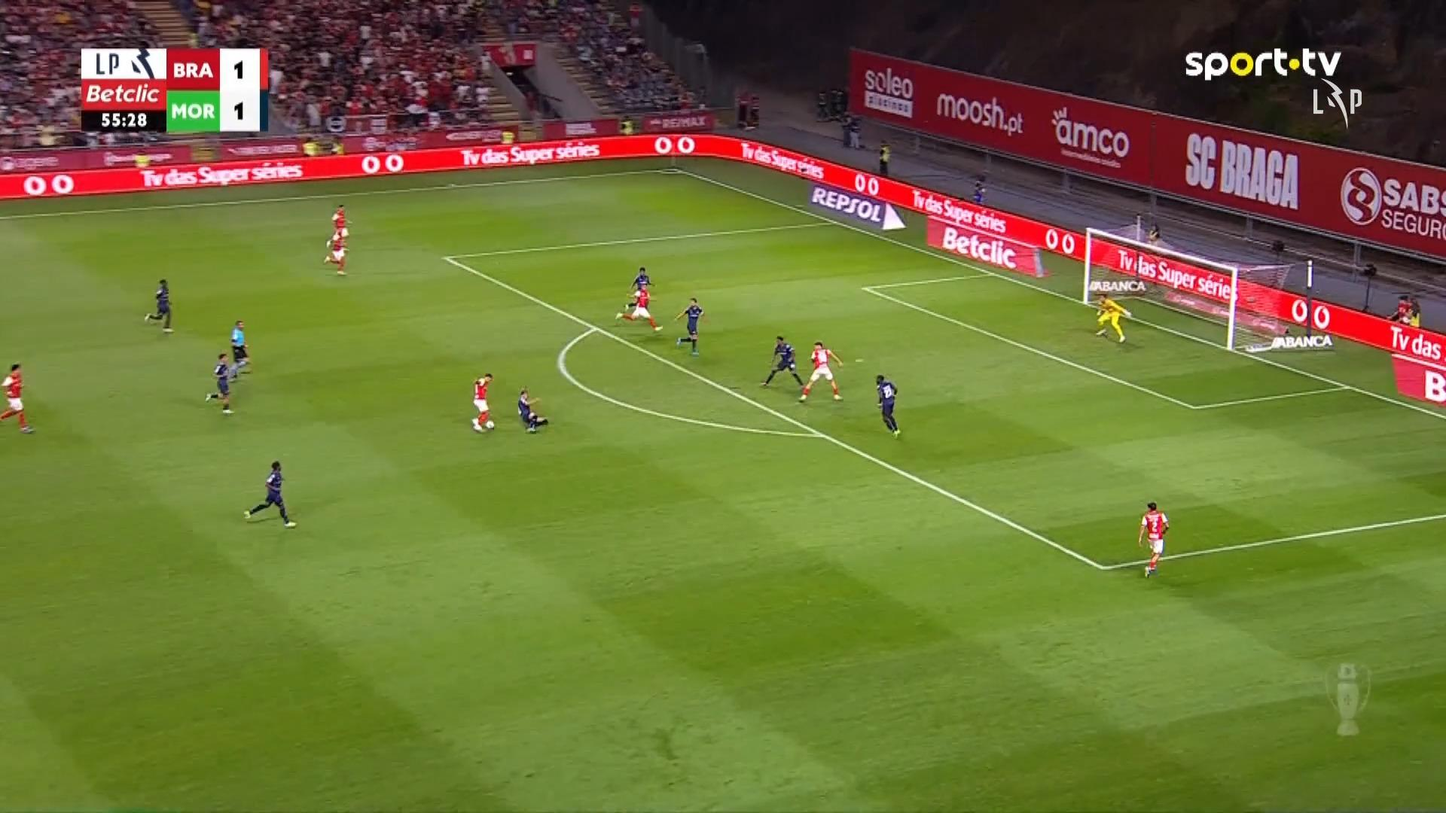ball: (485, 419, 494, 428)
goalkeeper: (1093, 291, 1132, 343)
player: (243, 460, 297, 528), (798, 340, 844, 401), (0, 362, 35, 434), (614, 282, 664, 331), (1137, 501, 1169, 577), (759, 335, 804, 388), (204, 352, 236, 414), (673, 297, 704, 356), (874, 373, 900, 438), (142, 279, 173, 333), (517, 387, 548, 434), (471, 372, 494, 432), (322, 229, 349, 275), (627, 266, 654, 308), (330, 202, 352, 238)
referee: (229, 319, 251, 378)
